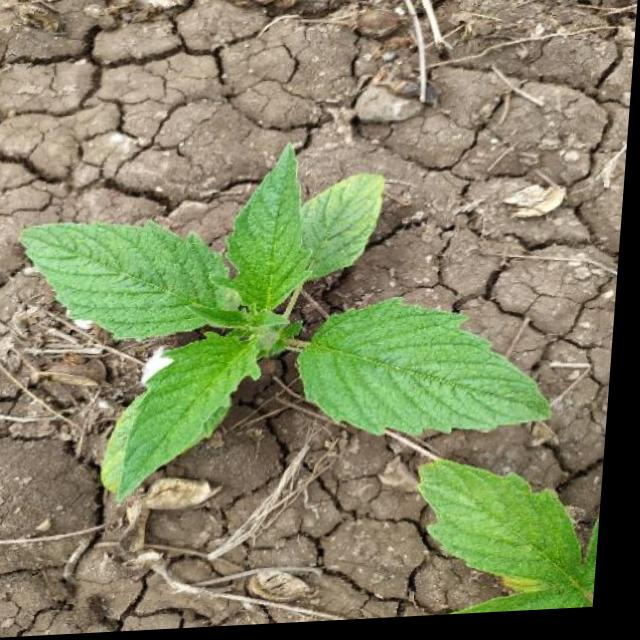crop: (8, 140, 574, 507)
